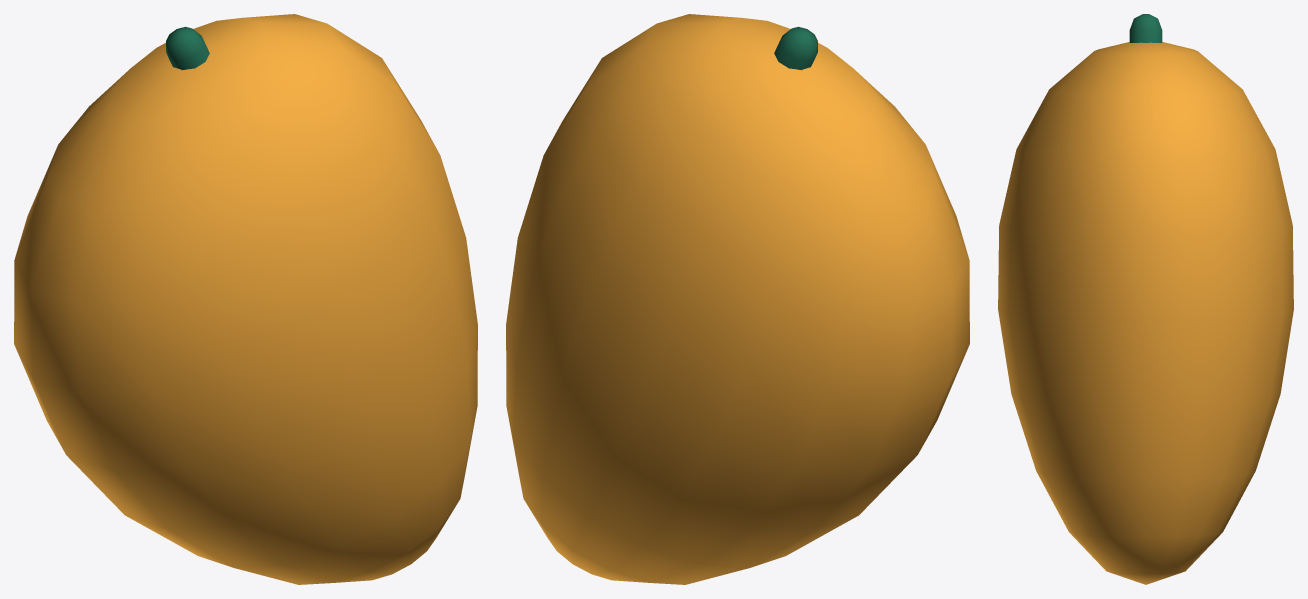
File: mango.glb
The picture shows the model from 3 angles, left to right: view 1: azimuth 30°, elevation 25°; view 2: azimuth 150°, elevation 25°; view 3: azimuth 270°, elevation 25°; orthographic projection. The views are drawn at different scales.
Parts seen in each view (by area): view 1: mango; view 2: mango; view 3: mango.
Boxes of the visible parts, x1=… form: mango: x1=14, y1=14, x2=477, y2=584; mango: x1=506, y1=14, x2=969, y2=584; mango: x1=998, y1=14, x2=1293, y2=584.
Bounding box in the file's own units: 0.4362 × 0.5652 × 0.31.
